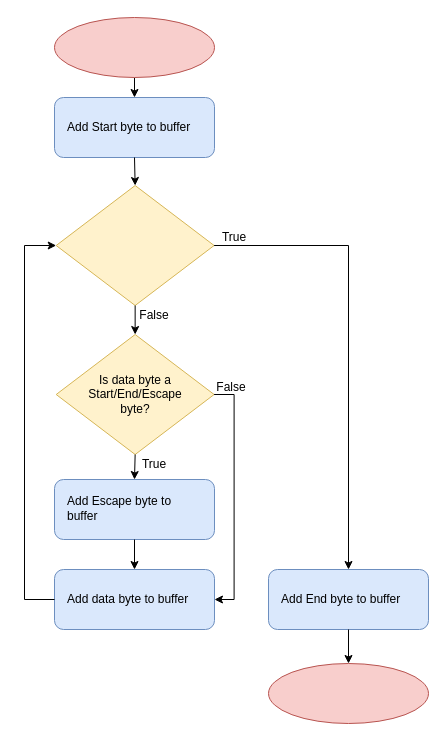
Image size: 446x741. Some labels were removed from this diagram. Each missing label, with the centre of its shape:
"End of data reached?" goes at point 134,245.
"Start" goes at point 134,47.
"Stop" goes at point 348,693.
